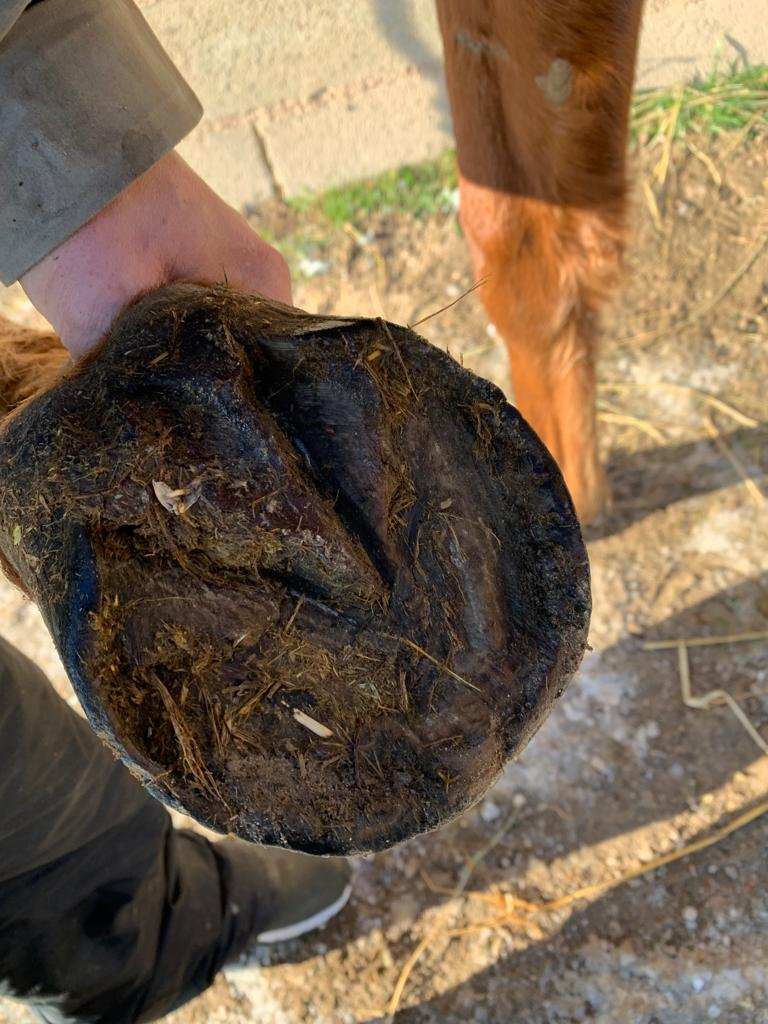horsesole: (57, 319, 594, 855)
